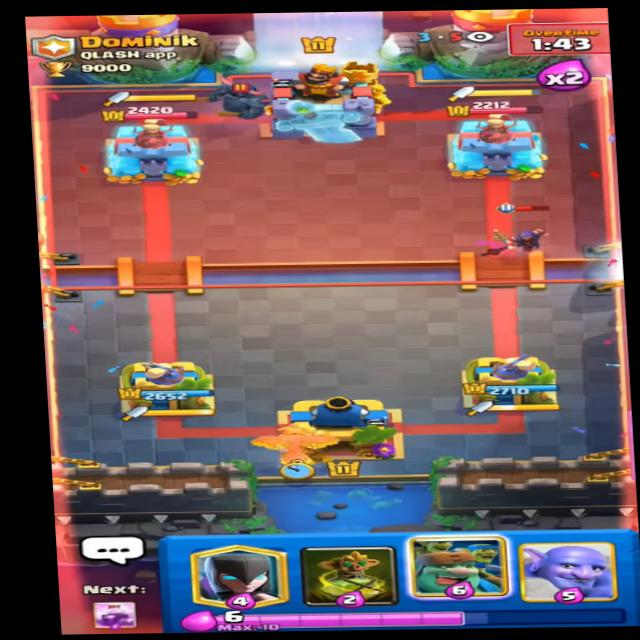evo-wizard: (490, 200, 559, 256)
pekka: (194, 75, 287, 125)
